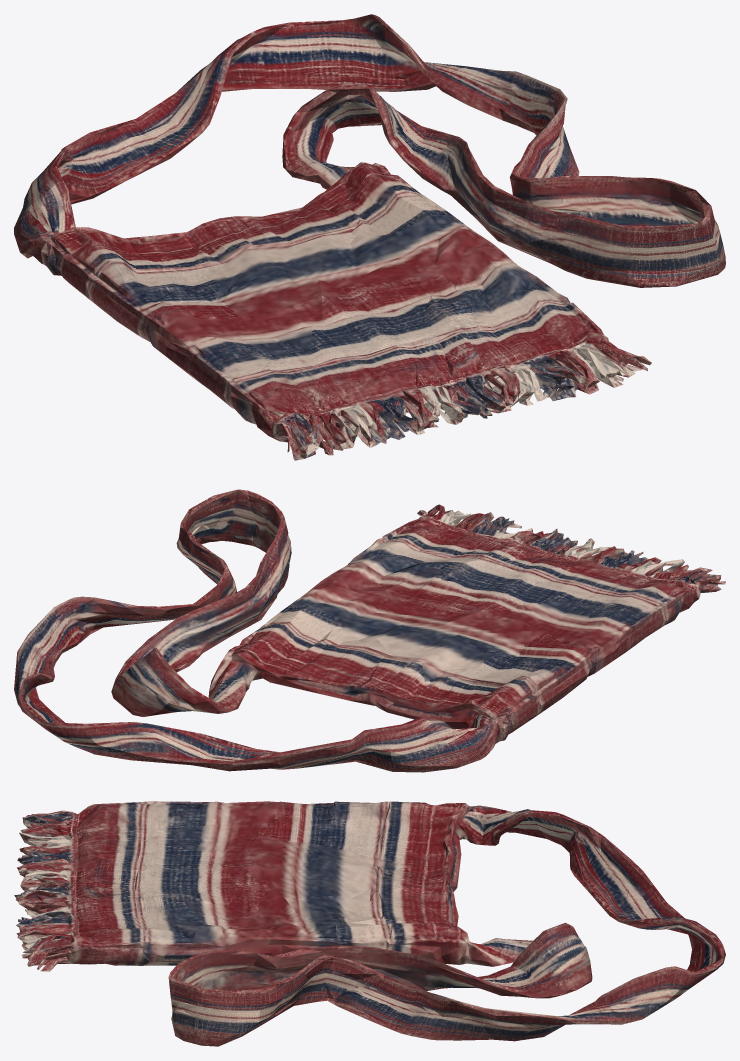
Rendered from remeshed-yaam.glb.
The picture shows the model from 3 angles, top to bottom: view 1: azimuth 30°, elevation 25°; view 2: azimuth 150°, elevation 25°; view 3: azimuth 270°, elevation 25°; orthographic projection. The views are drawn at different scales.
Parts seen in each view (by area): view 1: output_unwrapped; view 2: output_unwrapped; view 3: output_unwrapped.
Boxes of the visible parts, x1,y1,x2,y2 form: output_unwrapped: [14, 14, 725, 460]; output_unwrapped: [14, 489, 725, 772]; output_unwrapped: [14, 801, 725, 1046].
Bounding box in the file's own units: 1.41 × 0.1556 × 1.9.
1 material, 1 textured.
